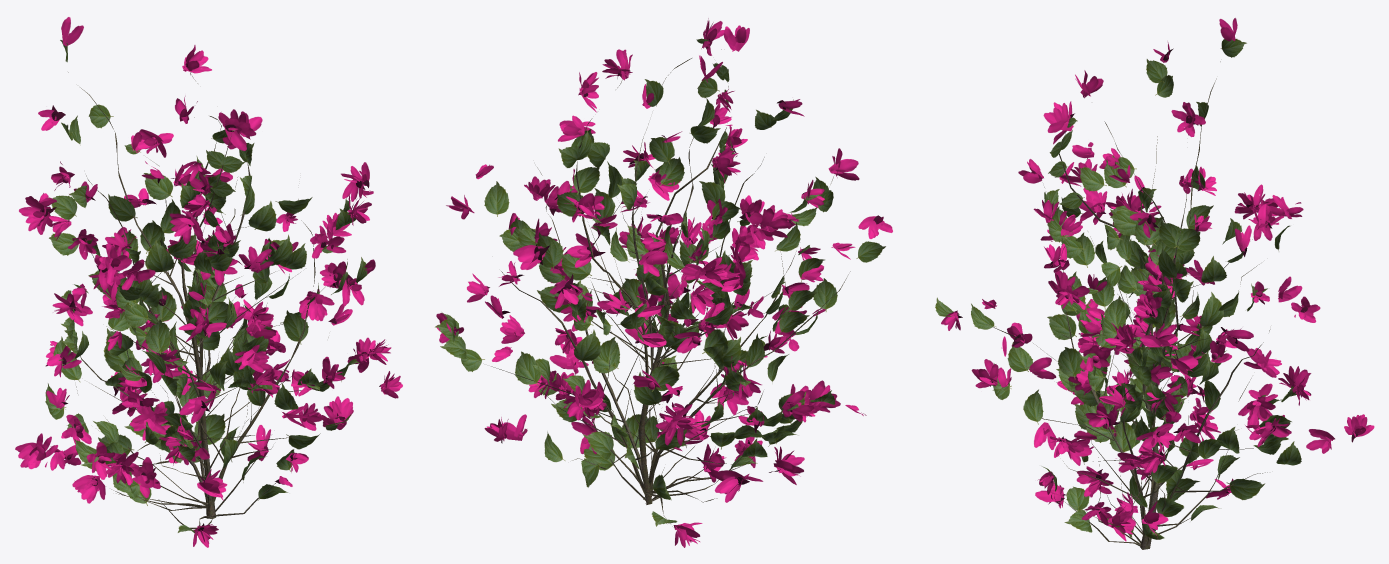
Rendered from bougainvillea_hd.glb.
3 views of the same model, side by side, from view 1: azimuth 30°, elevation 25°; view 2: azimuth 150°, elevation 25°; view 3: azimuth 270°, elevation 25° (orthographic). The views are drawn at different scales.
Parts seen in each view (by area): view 1: bark_01_largeF_w; view 2: bark_01_largeF_w; view 3: bark_01_largeF_w.
Part boxes in pixels (x1,y1,x2,y2): bark_01_largeF_w: (15, 17, 402, 547); bark_01_largeF_w: (435, 18, 892, 547); bark_01_largeF_w: (935, 18, 1374, 549).
Size of the model in its own units: 1.65 by 2.13 by 1.77.
3 materials, 3 textured.
